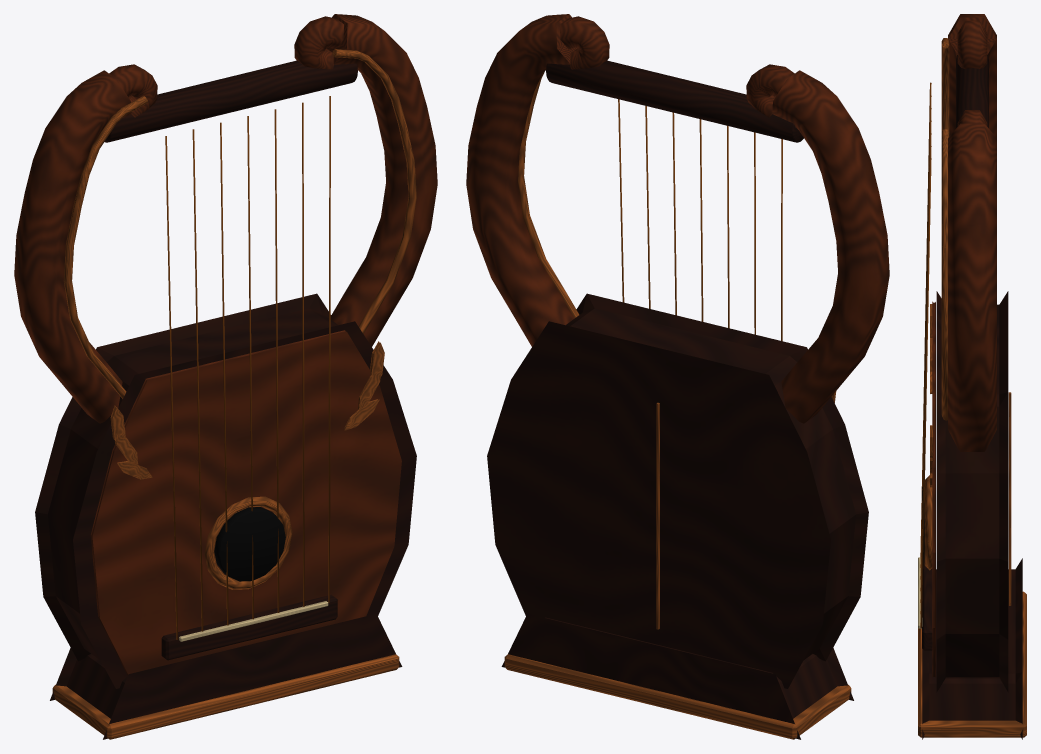
File: lyre_LOD1.glb
3 views of the same model, side by side, from view 1: azimuth 30°, elevation 25°; view 2: azimuth 150°, elevation 25°; view 3: azimuth 270°, elevation 25° (orthographic). The views are drawn at different scales.
Visible parts, largest first — view 1: Bookmatched lyre soundboard, Closed lyre resonating body, Carved continuous arm -1, Carved continuous arm 1, Finished lyre foot, Carved top crossbar, Foot molding, Deep sound-hole cavity, Raised string bridge, Inset arm binding -1, Inset arm binding 1, Layered circular sound-hole rim (+10 smaller); view 2: Closed lyre resonating body, Carved continuous arm -1, Carved continuous arm 1, Finished lyre foot, Carved top crossbar, Foot molding, Scroll carved arm tip 1, Inset arm binding 1, Scroll carved arm tip -1, Inferred finished rear seam; view 3: Closed lyre resonating body, Carved continuous arm 1, Finished lyre foot, Foot molding, Inset arm binding 1, Carved continuous arm -1, Carved top crossbar, Bookmatched lyre soundboard, Scroll carved arm tip -1, Lyre string 6, Raised string bridge, Inferred finished rear seam (+10 smaller).
Part boxes in pixels (bbox=[...]): Bookmatched lyre soundboard: bbox=[90, 330, 401, 675]; Closed lyre resonating body: bbox=[35, 293, 416, 688]; Carved continuous arm -1: bbox=[14, 70, 131, 423]; Carved continuous arm 1: bbox=[326, 14, 437, 346]; Finished lyre foot: bbox=[50, 614, 402, 739]; Carved top crossbar: bbox=[104, 60, 357, 142]; Foot molding: bbox=[52, 654, 399, 739]; Deep sound-hole cavity: bbox=[214, 507, 285, 581]; Raised string bridge: bbox=[161, 594, 337, 660]; Inset arm binding -1: bbox=[64, 95, 147, 398]; Inset arm binding 1: bbox=[332, 49, 416, 333]; Layered circular sound-hole rim: bbox=[204, 496, 292, 589]; Closed lyre resonating body: bbox=[487, 293, 868, 688]; Carved continuous arm -1: bbox=[772, 70, 889, 423]; Carved continuous arm 1: bbox=[466, 14, 577, 346]; Finished lyre foot: bbox=[501, 614, 853, 739]; Carved top crossbar: bbox=[546, 60, 803, 142]; Foot molding: bbox=[504, 654, 851, 739]; Scroll carved arm tip 1: bbox=[560, 16, 609, 69]; Inset arm binding 1: bbox=[518, 71, 579, 318]; Scroll carved arm tip -1: bbox=[746, 64, 794, 117]; Inferred finished rear seam: bbox=[656, 402, 659, 629]; Closed lyre resonating body: bbox=[936, 291, 1008, 692]; Carved continuous arm 1: bbox=[948, 123, 996, 451]; Finished lyre foot: bbox=[922, 558, 1022, 739]; Foot molding: bbox=[918, 591, 1026, 737]; Inset arm binding 1: bbox=[941, 129, 949, 420]; Carved continuous arm -1: bbox=[948, 14, 996, 137]; Carved top crossbar: bbox=[956, 55, 988, 128]; Bookmatched lyre soundboard: bbox=[932, 301, 935, 677]; Scroll carved arm tip -1: bbox=[957, 20, 987, 68]; Lyre string 6: bbox=[920, 158, 931, 628]; Raised string bridge: bbox=[922, 559, 932, 650]; Inferred finished rear seam: bbox=[1008, 392, 1011, 605].
Size of the model in its own units: 0.5136 by 0.7653 by 0.125.
Materials: 6 (6 with a texture image).
